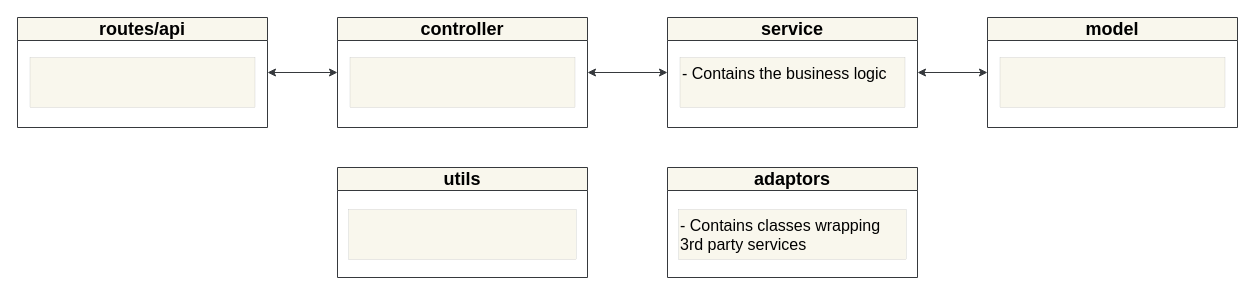
Some shapes in this 1255 by 295 pixel diagram are drawn without their labels. Each missing label, with the centre of its shape:
"- Contains commonly/frequently used functions" belongs at point 462,234.
"- Contains the classes mapped with the tables of database" belongs at point 1112,82.
"- Lists all the APIs" belongs at point 142,82.
"- Validates that the received data is in the correct format" belongs at point 462,82.
